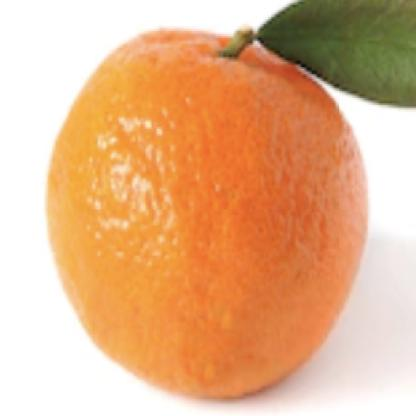fresh: (50, 25, 363, 398)
